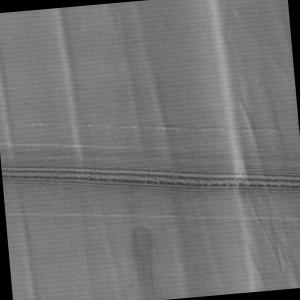Stain: (125, 218, 162, 300)
Wrinkle: (197, 1, 300, 295), (134, 1, 195, 300), (1, 12, 44, 300), (48, 7, 94, 173)
